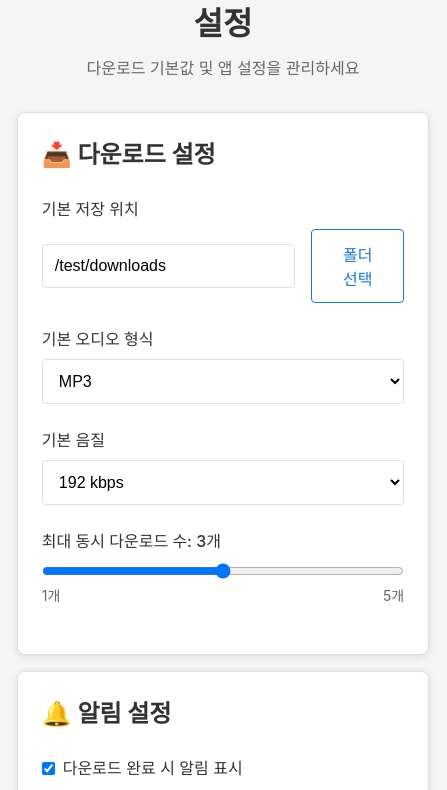
Test: Task 4.3 SettingsView UI Functionality › User Feedback and Error Handling › should handle directory selection errors
This screenshot has width=447, height=790.
Click the button "폴더 선택": (358, 266) left=311, top=229, right=404, bottom=303
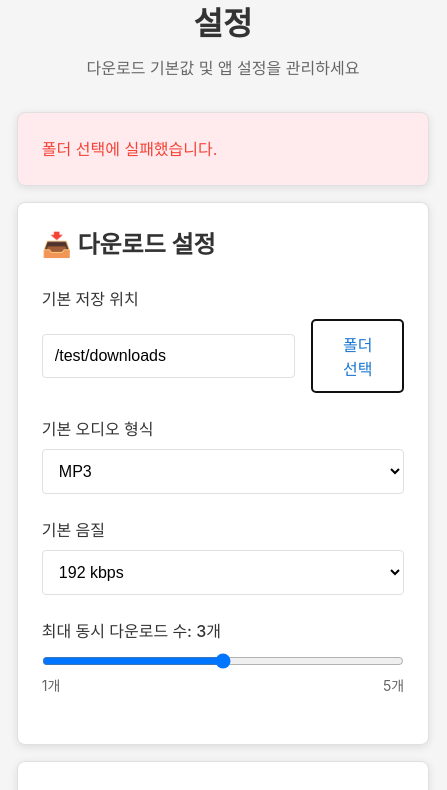
Result: the text "폴더 선택에 실패했습니다." is shown at left=17, top=112, right=429, bottom=186
